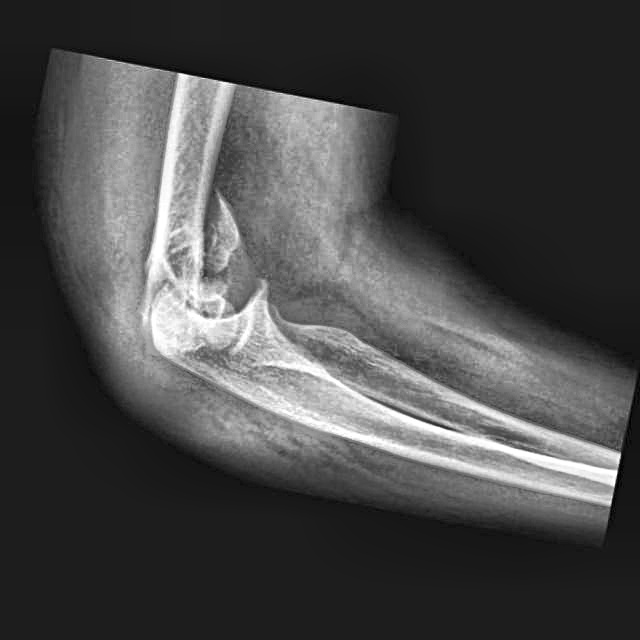Oblique Displaced: (132, 173, 260, 335)
